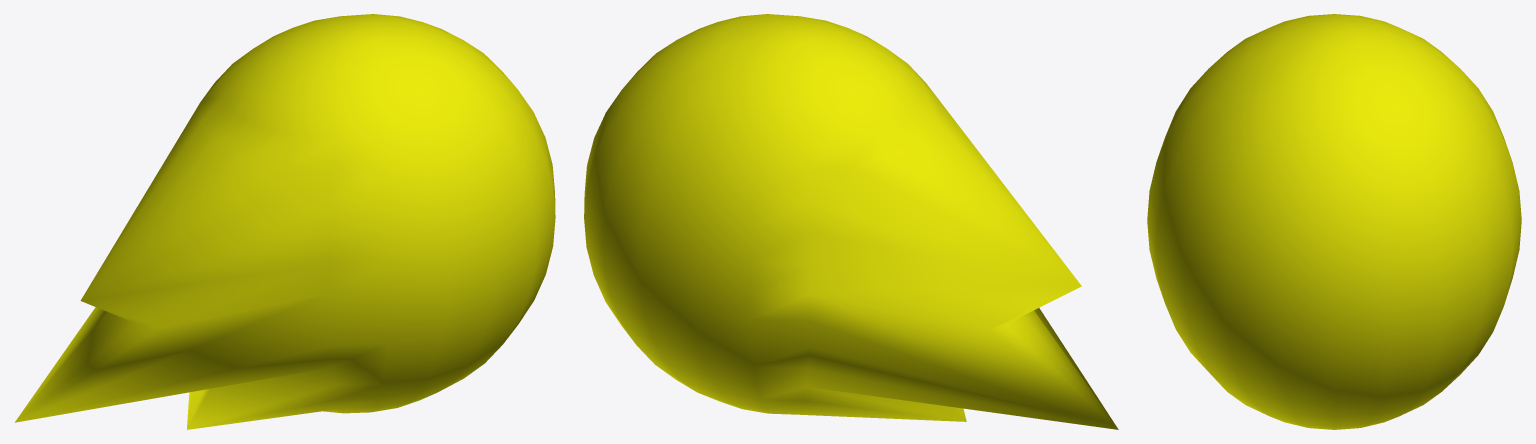
Rendered from denki.fbx.
3 views of the same model, side by side, from view 1: azimuth 30°, elevation 25°; view 2: azimuth 150°, elevation 25°; view 3: azimuth 270°, elevation 25° (orthographic). The views are drawn at different scales.
Parts seen in each view (by area): view 1: pSphere1; view 2: pSphere1; view 3: pSphere1.
Boxes of the visible parts, left/top/right/bottom form: pSphere1: left=15, top=14, right=555, bottom=429; pSphere1: left=584, top=14, right=1118, bottom=429; pSphere1: left=1147, top=14, right=1521, bottom=429.
Bounding box in the file's own units: 5.35 × 3.63 × 3.27.
